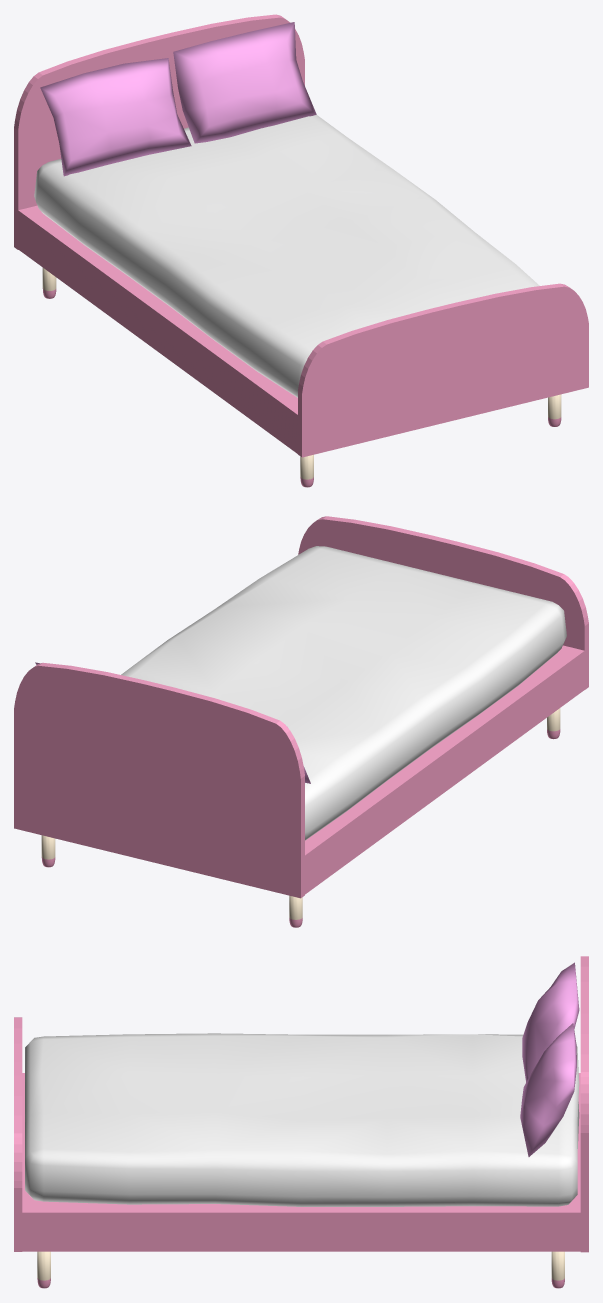
The model's file is bed.fbx.
The picture shows the model from 3 angles, top to bottom: view 1: azimuth 30°, elevation 25°; view 2: azimuth 150°, elevation 25°; view 3: azimuth 270°, elevation 25°; orthographic projection.
Visible parts, largest first — view 1: Box02.001, Cube.001, pillow.001, pillow, Cube.002; view 2: Cube.001, Box02.001, Cube.002; view 3: Box02.001, Cube.001, pillow.001, pillow, Cube.002.
Part boxes in pixels (bbox=[...]): Box02.001: bbox=[34, 114, 539, 397]; Cube.001: bbox=[14, 14, 588, 457]; pillow.001: bbox=[173, 22, 316, 143]; pillow: bbox=[40, 58, 191, 176]; Cube.002: bbox=[42, 268, 561, 487]; Cube.001: bbox=[14, 516, 588, 898]; Box02.001: bbox=[121, 546, 566, 840]; Cube.002: bbox=[41, 708, 560, 927]; Box02.001: bbox=[25, 1033, 579, 1206]; Cube.001: bbox=[14, 956, 588, 1252]; pillow.001: bbox=[520, 1023, 576, 1156]; pillow: bbox=[522, 962, 579, 1082]; Cube.002: bbox=[37, 1251, 564, 1288].
Bounding box in the file's own units: 200 × 146 × 348.
